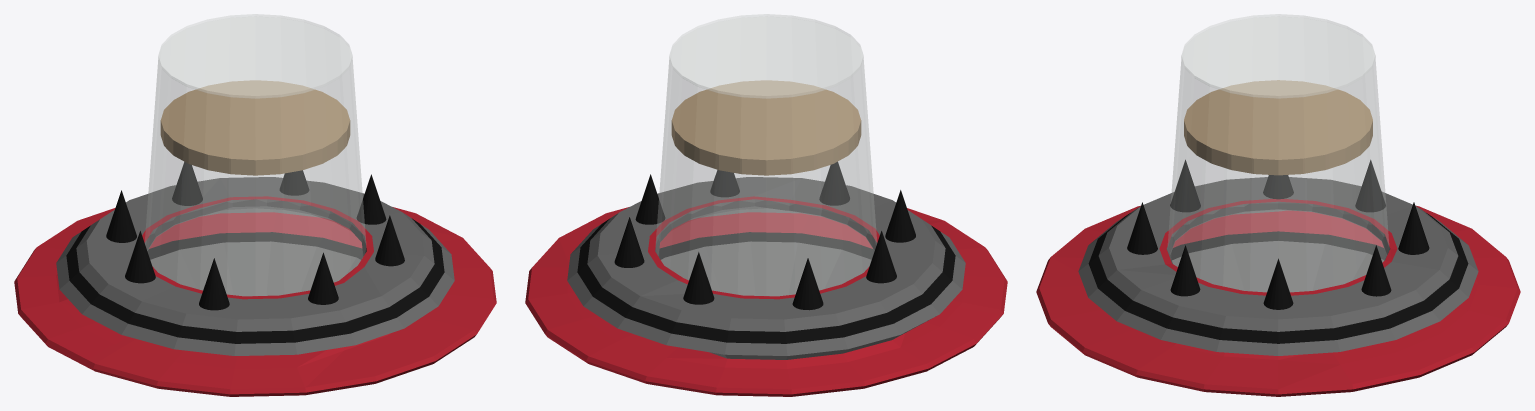
The model's file is sol6_t03.glb.
The picture shows the model from 3 angles, left to right: view 1: azimuth 30°, elevation 25°; view 2: azimuth 150°, elevation 25°; view 3: azimuth 270°, elevation 25°; orthographic projection.
Visible parts, largest first — view 1: slot_anchor_saucer, glass_cover, brown_disc, glass_top; view 2: slot_anchor_saucer, glass_cover, brown_disc, glass_top; view 3: slot_anchor_saucer, glass_cover, brown_disc, glass_top.
Boxes of the visible parts, x1,y1,x2,y2 form: slot_anchor_saucer: (14,162,496,396); glass_cover: (145,16,365,295); brown_disc: (160,80,350,175); glass_top: (158,14,352,98); slot_anchor_saucer: (525,162,1007,396); glass_cover: (656,16,876,295); brown_disc: (671,80,861,175); glass_top: (669,14,863,98); slot_anchor_saucer: (1036,160,1520,396); glass_cover: (1167,16,1389,291); brown_disc: (1184,80,1372,175); glass_top: (1181,14,1375,98).
Size of the model in its own units: 2 by 1.42 by 2.
3 materials, 1 textured.
